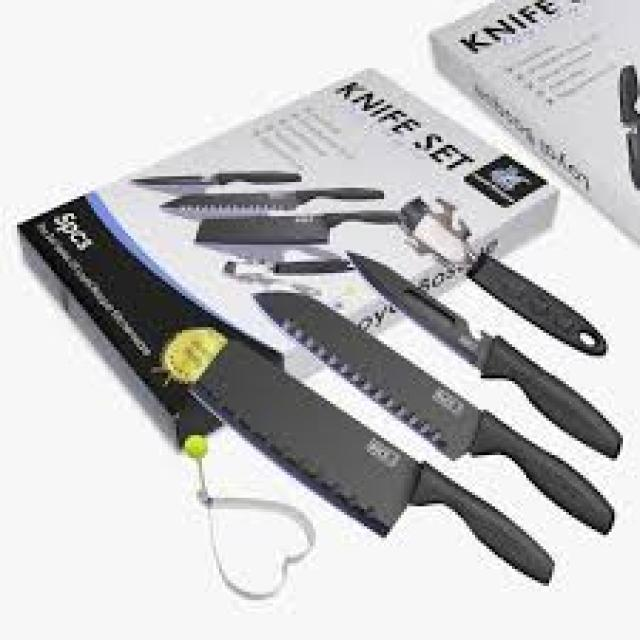Knife: (149, 251, 615, 620)
